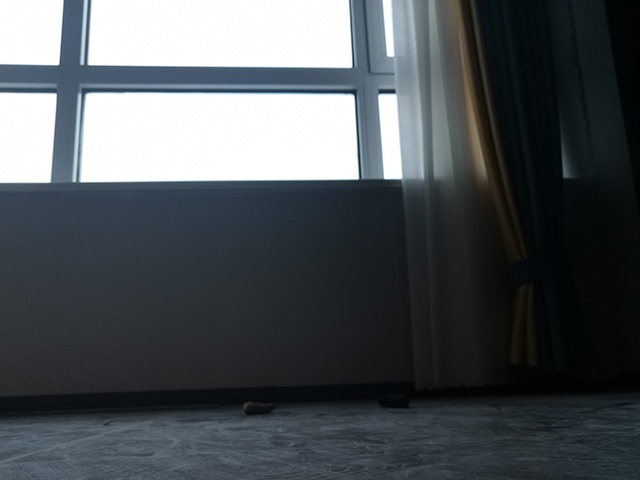curtain: (390, 1, 602, 393)
feces: (374, 392, 411, 410), (240, 399, 278, 416)
